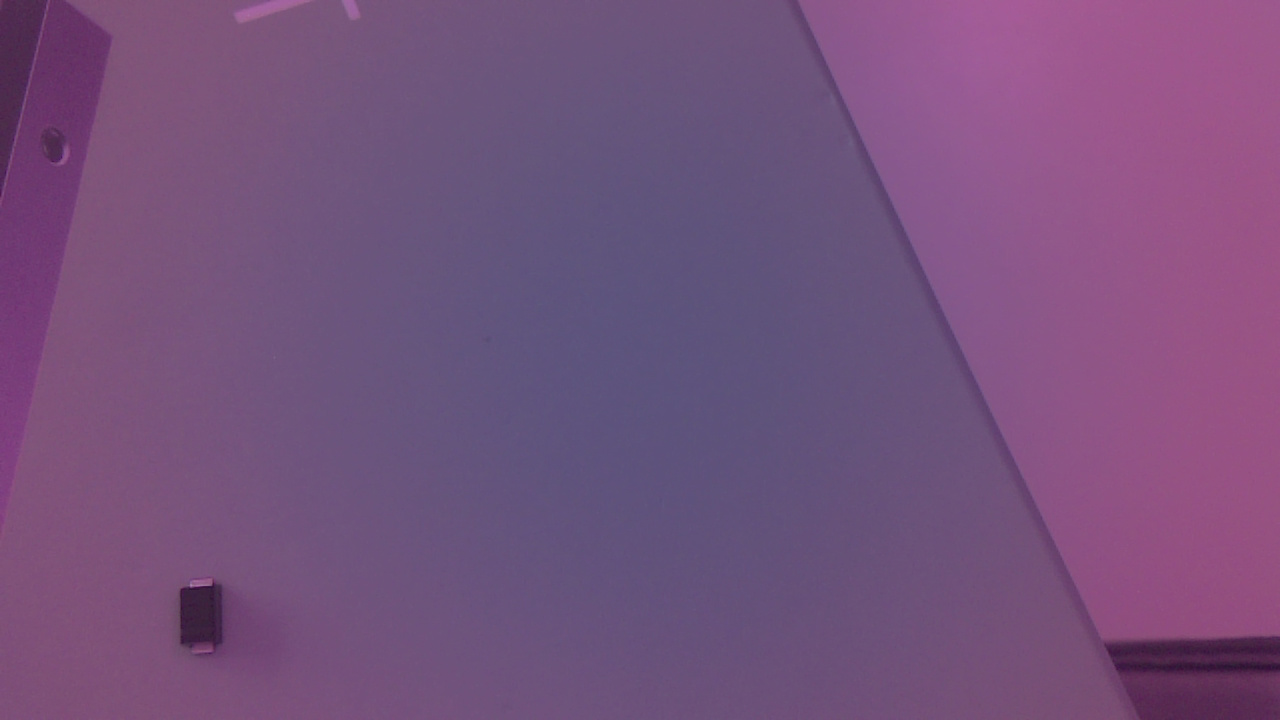Diode: (172, 575, 235, 664)
